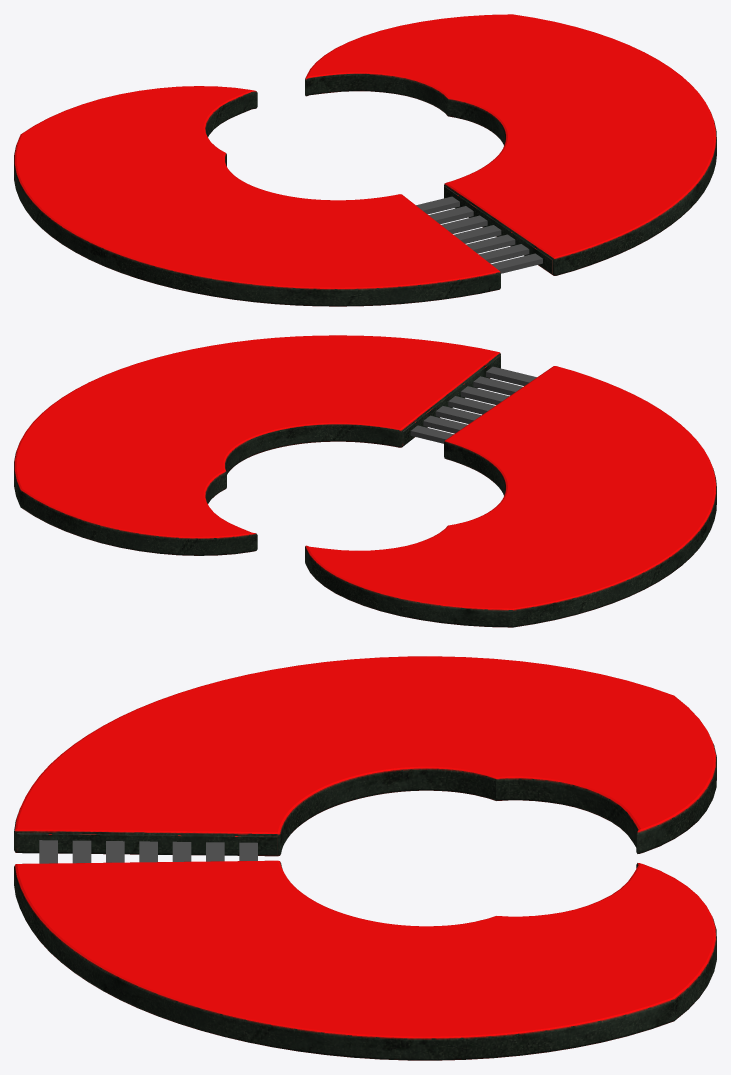
File: stage_horseshoe.obj
3 renders of one model, top to bottom at view 1: azimuth 30°, elevation 25°; view 2: azimuth 150°, elevation 25°; view 3: azimuth 270°, elevation 25°, orthographic. The views are drawn at different scales.
Parts seen in each view (by area): view 1: stage_horseshoe.003; view 2: stage_horseshoe.003; view 3: stage_horseshoe.003.
Boxes of the visible parts, x1,y1,x2,y2 form: stage_horseshoe.003: (14,14,716,306); stage_horseshoe.003: (14,335,716,627); stage_horseshoe.003: (14,656,716,1060).
Bounding box in the file's own units: 2.75 × 0.08 × 2.13.
1 material, 1 textured.
